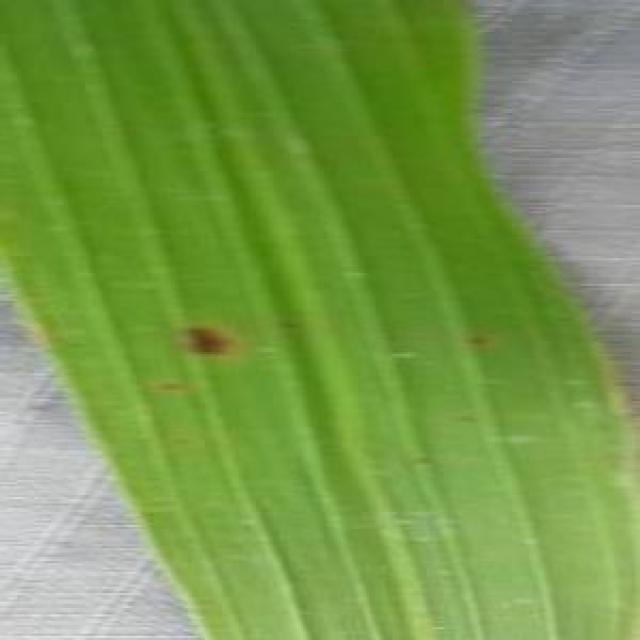Brown_Spot: (179, 326, 233, 364)
